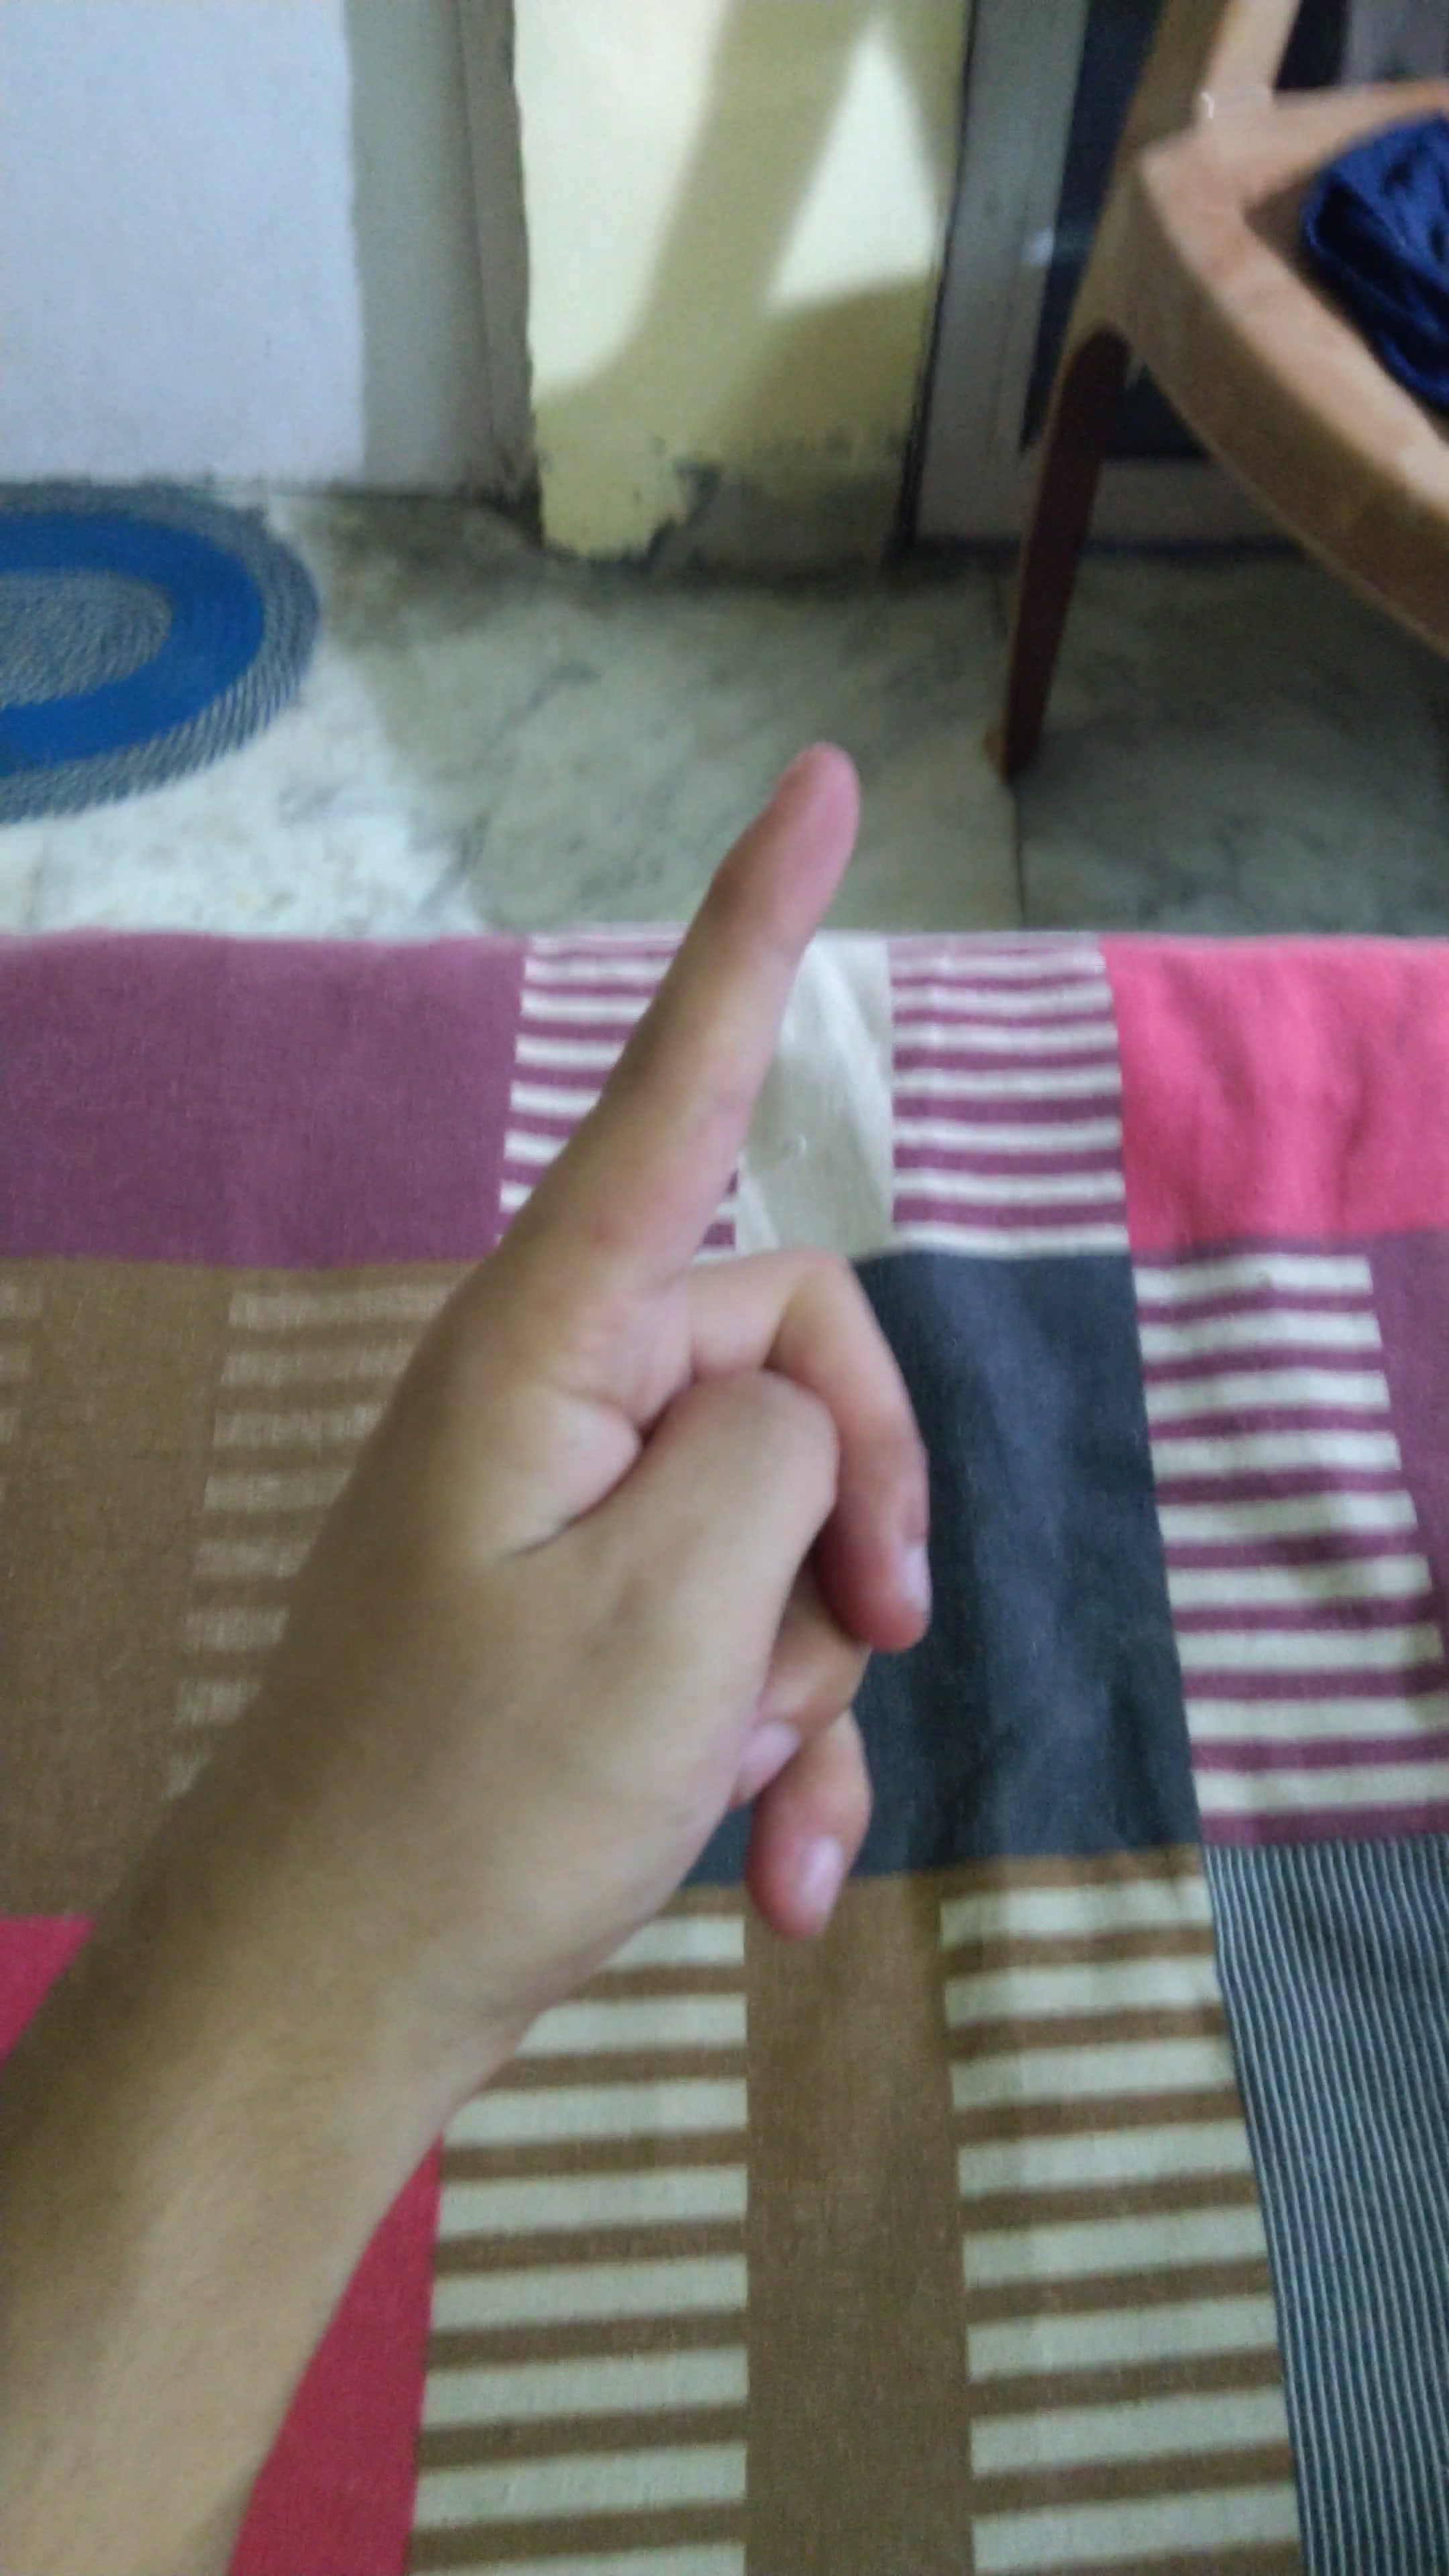hand: (180, 701, 1125, 2035)
